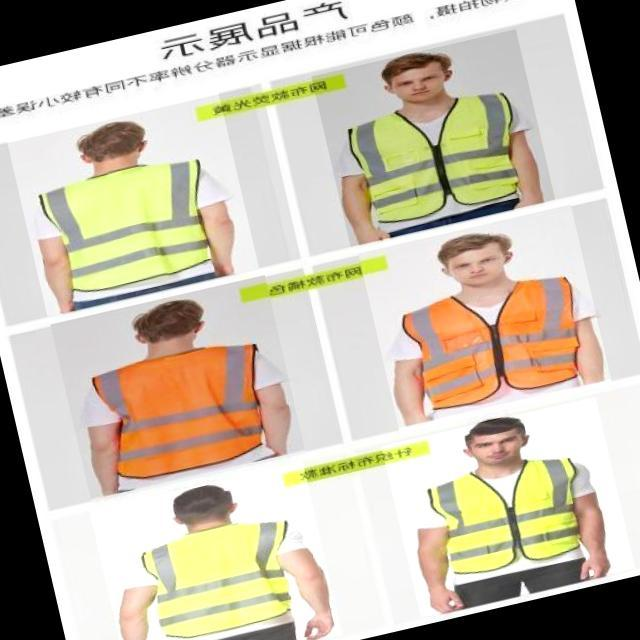Person: (58, 294, 311, 492), (18, 110, 258, 306), (323, 47, 570, 237), (375, 235, 618, 424), (397, 414, 620, 617), (105, 479, 342, 640)
Safety Vest: (392, 267, 607, 422), (77, 338, 282, 490), (335, 84, 536, 236), (35, 148, 226, 298), (130, 515, 308, 640), (434, 457, 588, 576)
bare-arms: (293, 602, 339, 639), (413, 584, 467, 612), (576, 549, 610, 579)
no-helmet: (437, 235, 528, 276), (175, 475, 250, 518), (380, 53, 470, 88), (464, 412, 527, 456), (79, 120, 146, 161), (139, 303, 218, 329)
